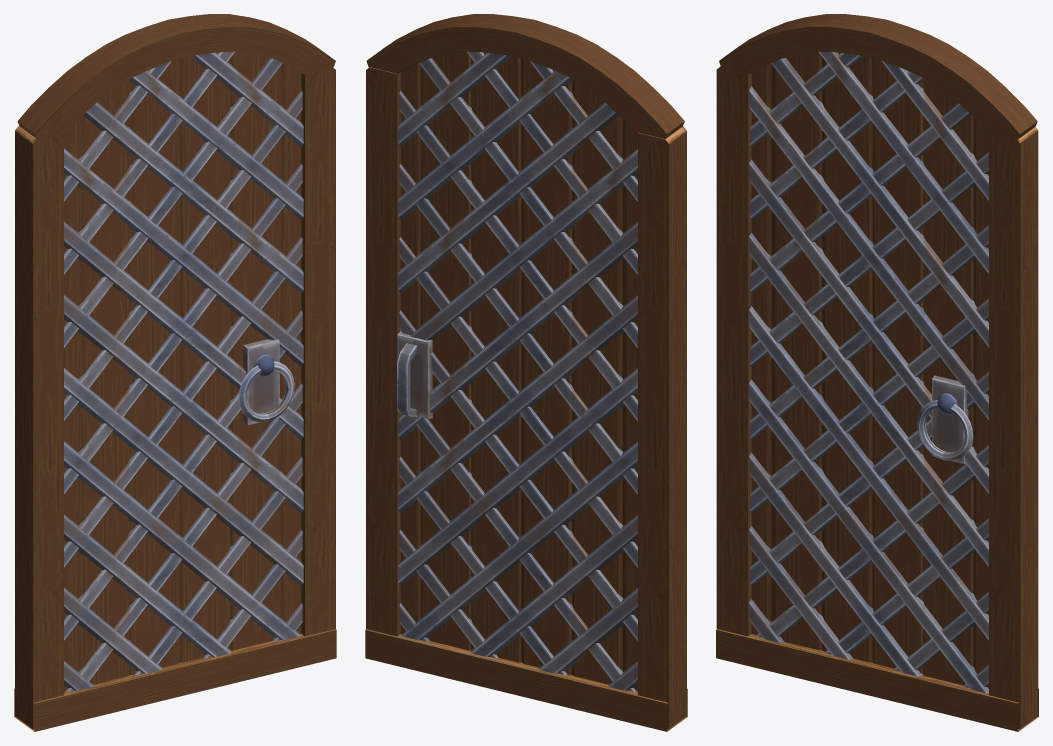
The model's file is Door_4_Round.gltf.
3 views of the same model, side by side, from view 1: azimuth 30°, elevation 25°; view 2: azimuth 150°, elevation 25°; view 3: azimuth 330°, elevation 25° (orthographic).
Visible parts, largest first — view 1: Door_4_Round; view 2: Door_4_Round; view 3: Door_4_Round.
Boxes of the visible parts, box(x1,y1,x2,y2) form: Door_4_Round: box(14, 14, 336, 731); Door_4_Round: box(365, 14, 687, 731); Door_4_Round: box(716, 14, 1038, 731).
Bounding box in the file's own units: 1.11 × 2.32 × 0.2093.
Materials: 2 (2 with a texture image).
